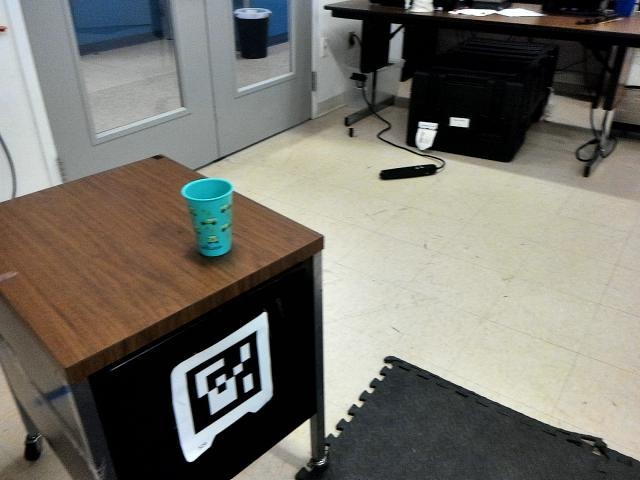coffee_cup: (181, 177, 235, 256)
